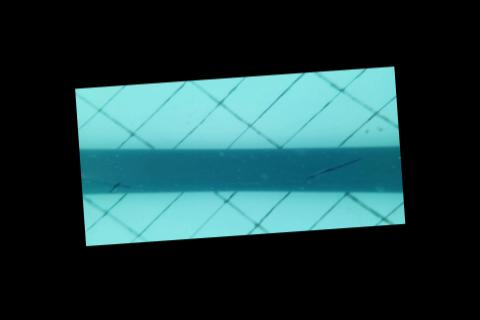keretakan: (304, 156, 363, 179), (92, 178, 139, 193)
